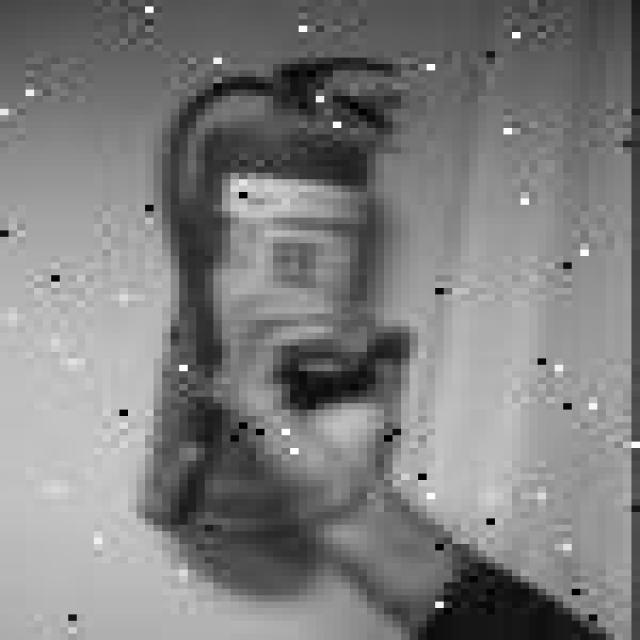O: (204, 316, 410, 522)
